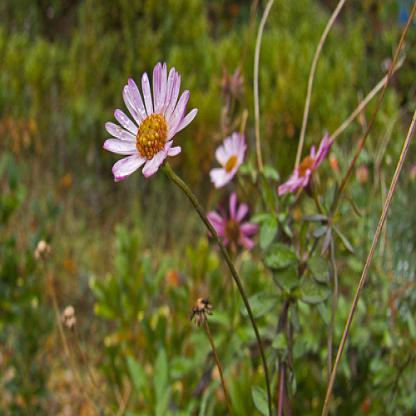ASTER: (88, 28, 223, 230)
